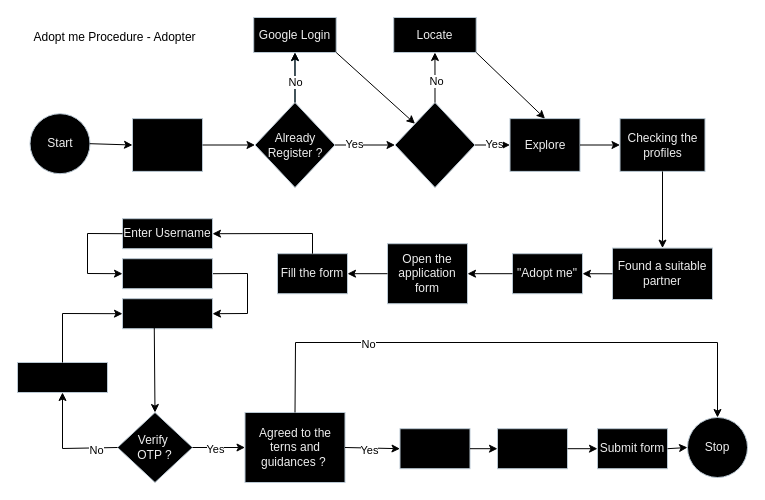
The diagram is 765 pixels wide and 500 high, and some of its shapes have lost their labels. Here are the shapes that lost their labels. From the top down, the centre of each, then its label:
At point (167, 144): "Open App".
At point (434, 145): "Already Locate ?".
At point (167, 273): "Enter Address".
At point (167, 313): "Enter PhoneNo".
At point (62, 377): "Resend OTP".
At point (434, 448): "Tick the checkbox".
At point (532, 448): "Adopter's signature".
